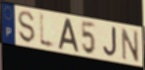5: (80, 19, 98, 56)
A: (57, 18, 80, 53)
J: (102, 26, 117, 58)
L: (38, 10, 57, 52)
N: (120, 26, 141, 64)
S: (17, 10, 37, 45)
